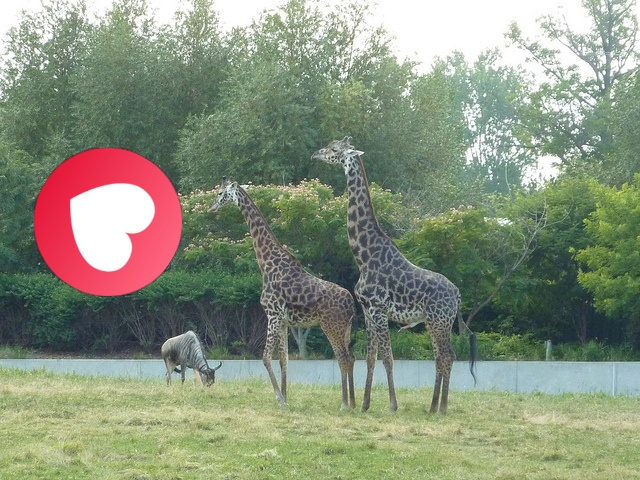love: (34, 148, 182, 296)
